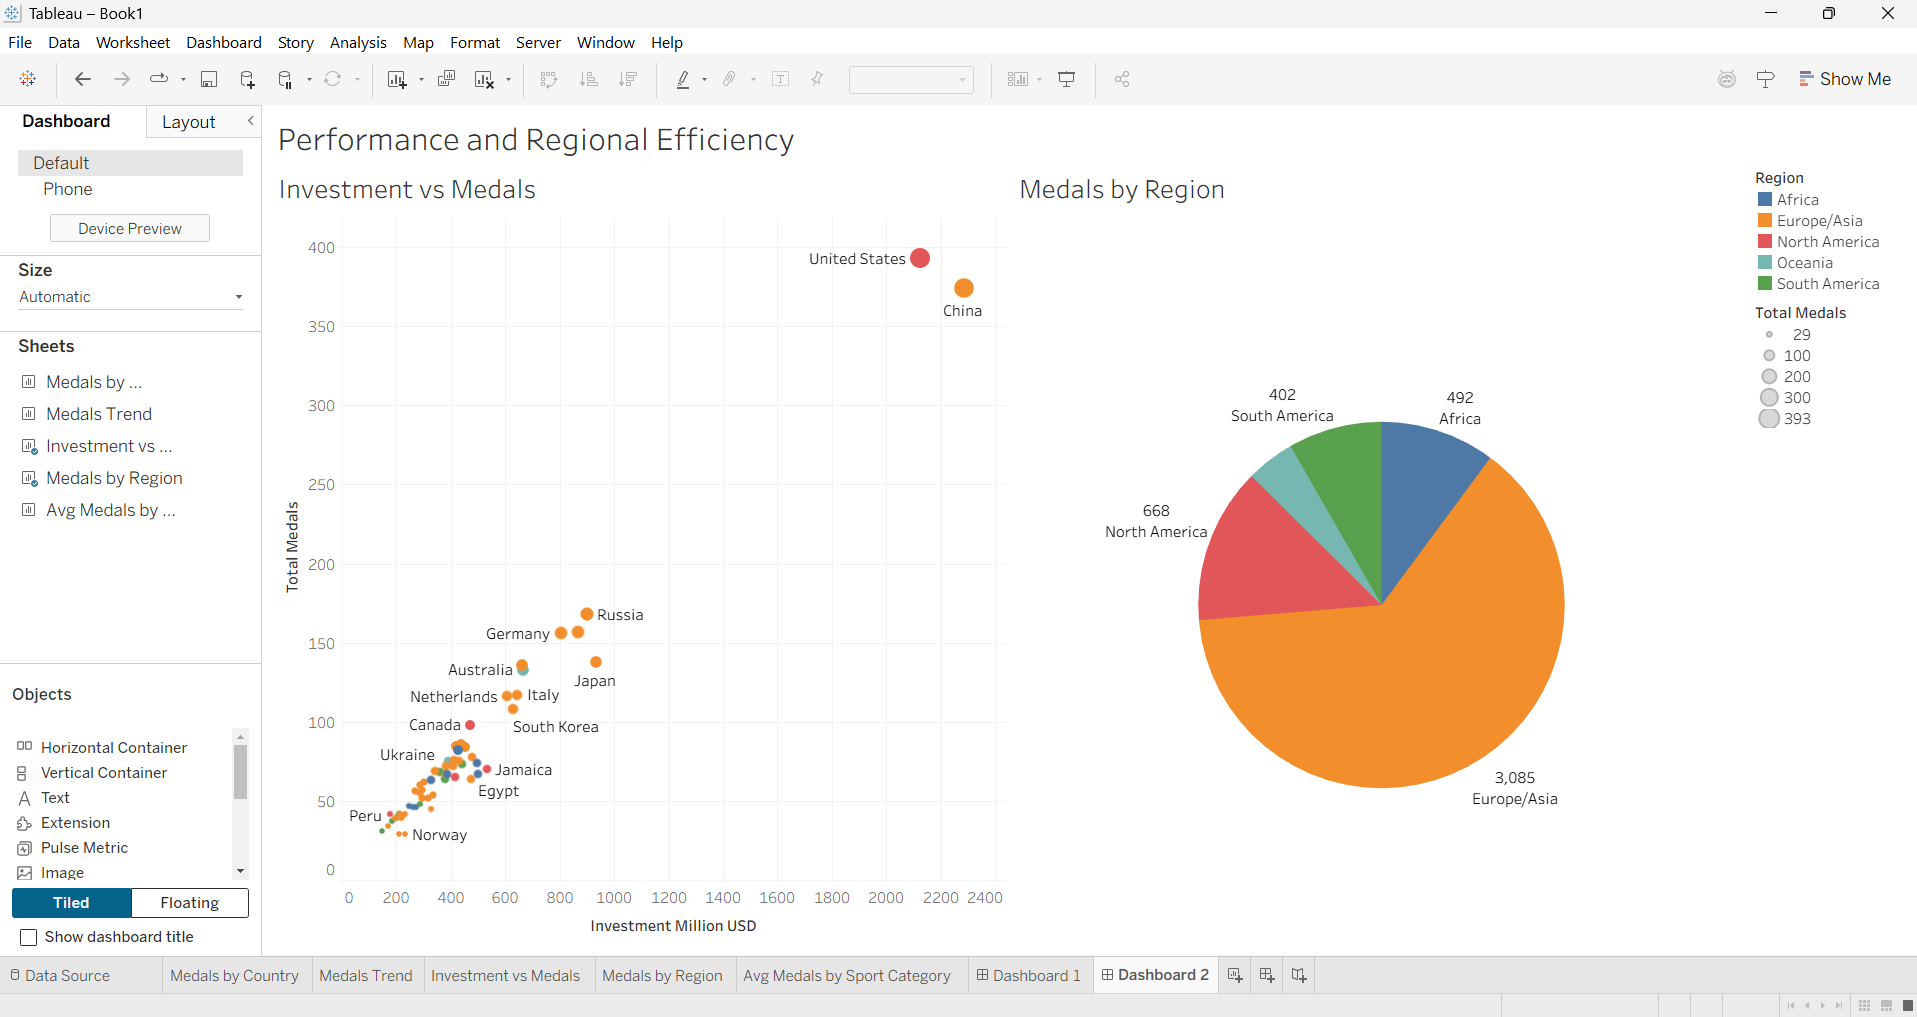

Layout of this report page (visuals, bound fields, positions):
{"tool":"tableau","page":{"name":"Dashboard 2","canvas":[1000,1000],"units":"permille","ordinal":1},"visuals":[{"type":"title","box":[4.8,9.4,990.3,58.8]},{"type":"worksheet","title":"Investment vs Medals","mark":"Circle","rows":["Total_Medals"],"cols":["Investment_Million_USD"],"box":[4.8,68.2,446.9,922.4]},{"type":"worksheet","title":"Medals by Region","mark":"Pie","box":[451.7,68.2,446.9,922.4]},{"type":"legend","title":"Investment vs Medals","param":"[federated.0vy7wdc0vdcy6k16jlxny1f0dmuw].[none:Region:nk]","box":[898.6,68.2,96.6,158.8]},{"type":"legend","title":"Investment vs Medals","param":"[federated.0vy7wdc0vdcy6k16jlxny1f0dmuw].[sum:Total_Medals:qk]","box":[898.6,227.1,96.6,158.8]},{"type":"filter","title":"Medals by Region","param":"[federated.0vy7wdc0vdcy6k16jlxny1f0dmuw].[none:Region:nk]","box":[898.6,385.9,96.6,204.7]}]}

Visuals, with their boxes on the dashboard's canvas, which has no fixed pixel size, in thousandths of its width and height (x1, y1, x2, y2). These are canvas units, not pixel positions in the 1917x1017 screenshot, which may show the page scaled, cropped or inside an application window:
title: crop(5, 9, 995, 68)
"Investment vs Medals" worksheet (Circle marks): crop(5, 68, 452, 991)
"Medals by Region" worksheet (Pie marks): crop(452, 68, 899, 991)
"Investment vs Medals" legend: crop(899, 68, 995, 227)
"Investment vs Medals" legend: crop(899, 227, 995, 386)
"Medals by Region" filter: crop(899, 386, 995, 591)
